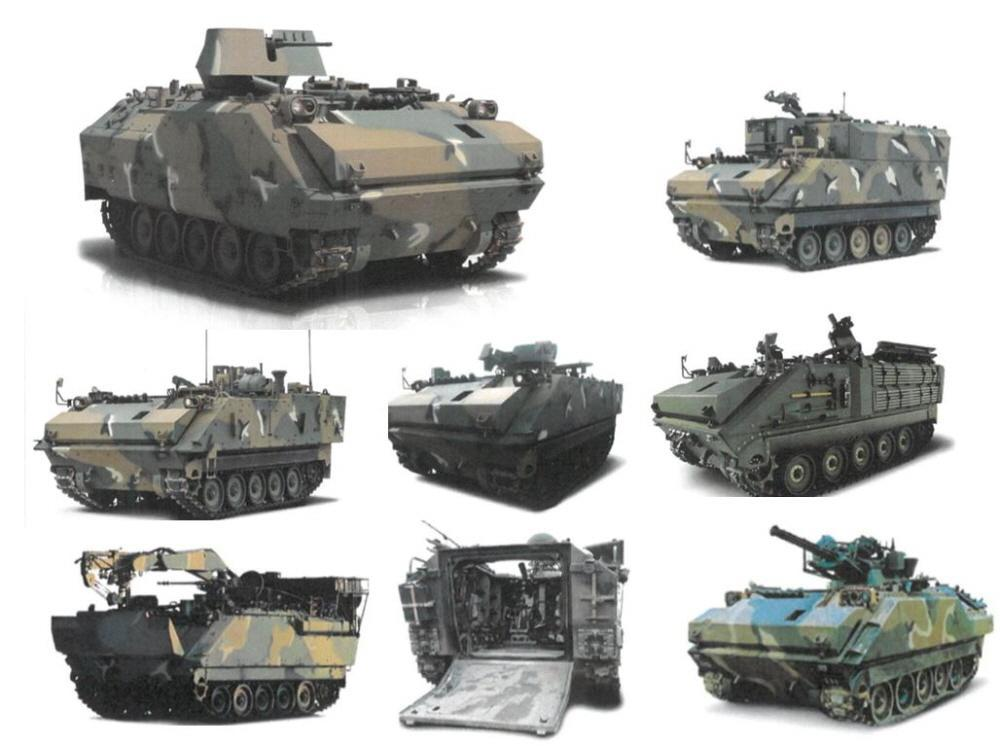MIL_IFV: (78, 29, 555, 310), (683, 521, 996, 730), (31, 324, 353, 527), (50, 538, 374, 724), (648, 312, 947, 501), (665, 88, 956, 274), (389, 519, 629, 739), (385, 331, 630, 514)
